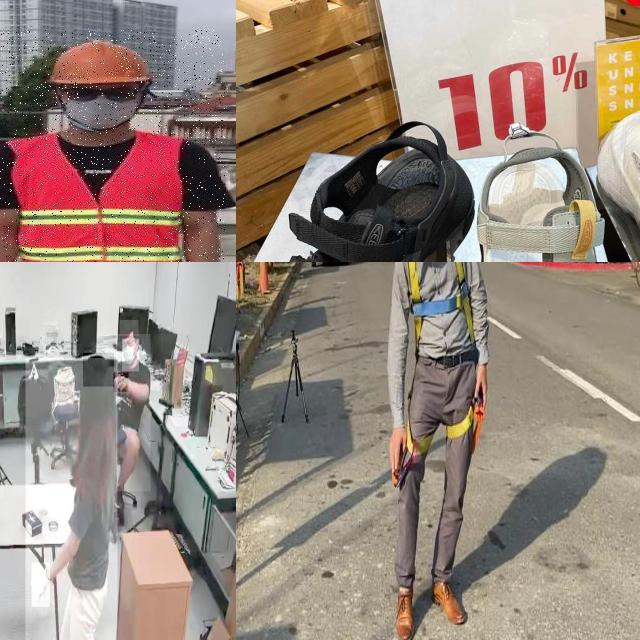Harness: (392, 398, 483, 489), (407, 262, 475, 346)
Sandals: (248, 111, 461, 262), (455, 120, 640, 262)
face_mask: (122, 338, 139, 372)
hand_glove: (31, 562, 50, 608)
hand_noglove: (113, 372, 129, 393)
head_helmet: (49, 41, 151, 86)
head_nohelmet: (83, 353, 115, 387), (119, 320, 139, 337)
person: (0, 30, 225, 262), (25, 358, 118, 640), (116, 334, 151, 492)
vest: (6, 134, 187, 262)
